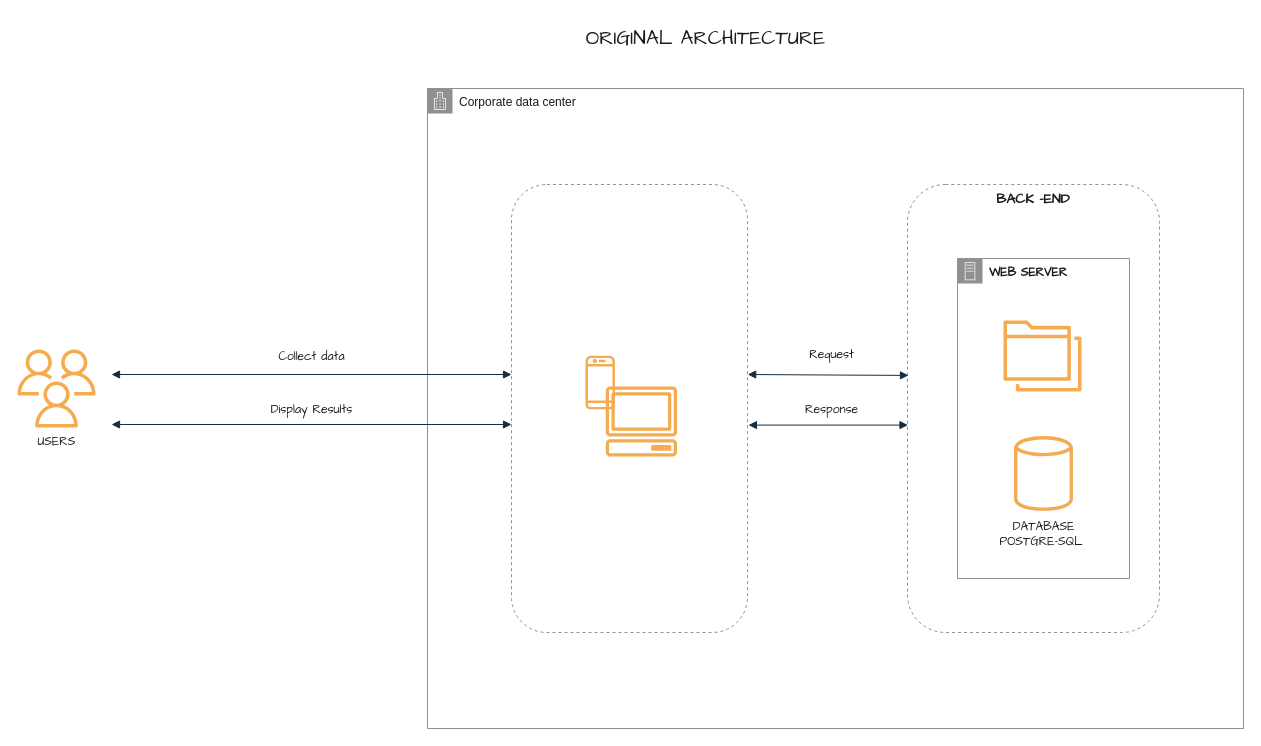
This 1261x746 diagram has some shape labels left out. The shapes that lost their labels are listed below. From the top down, each one's box as (x1, y1, x2, y2) in pixels, then its label:
(1003, 320, 1081, 391): BACKEND APP
(510, 184, 748, 632): FRONT-END
